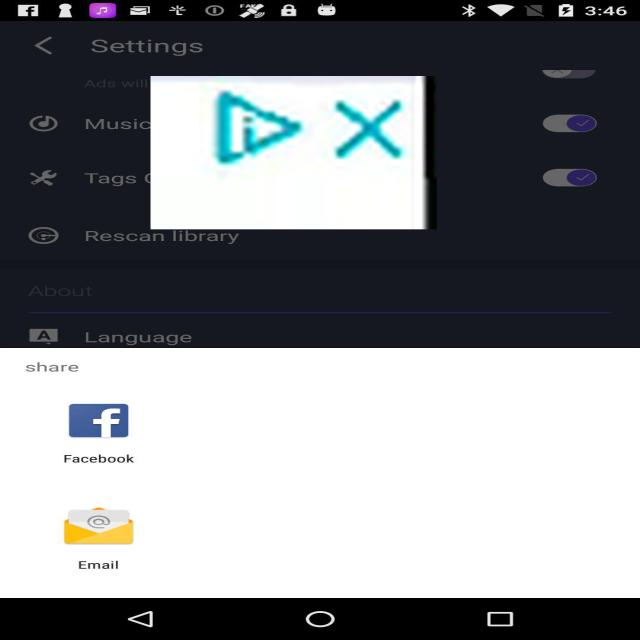sneaking: (150, 76, 437, 229)
